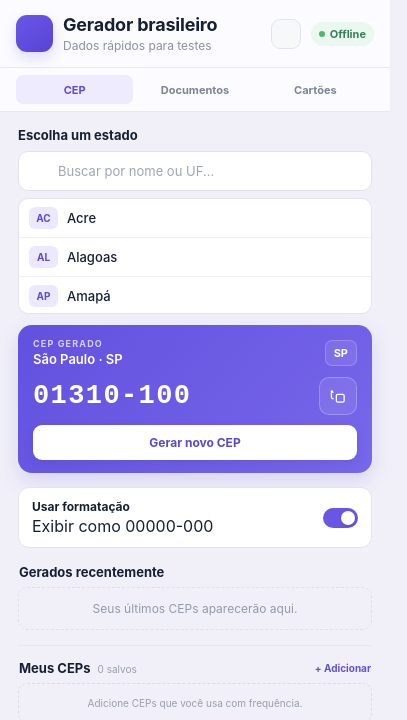
Scenario: App › alterna para a aba de documentos e exibe CPF
The width and height of the screenshot is (407, 720).
Click the button "Documentos" at (195, 90), box [136,75,254,104]
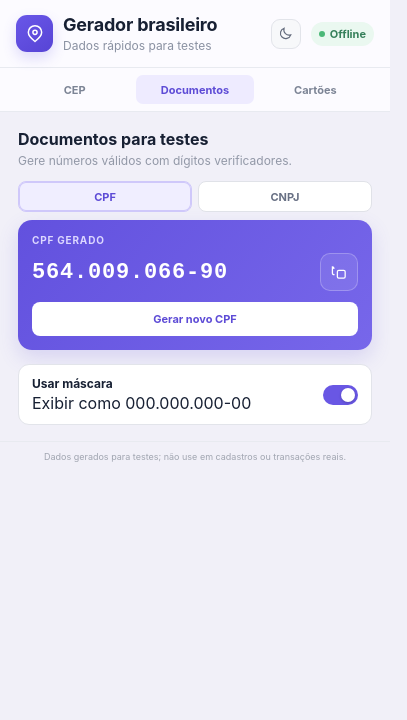
Check: the text "Documentos para testes" is shown, box [18,129,208,149]
Check: the text "CPF GERADO" is shown, box [32,234,105,246]
